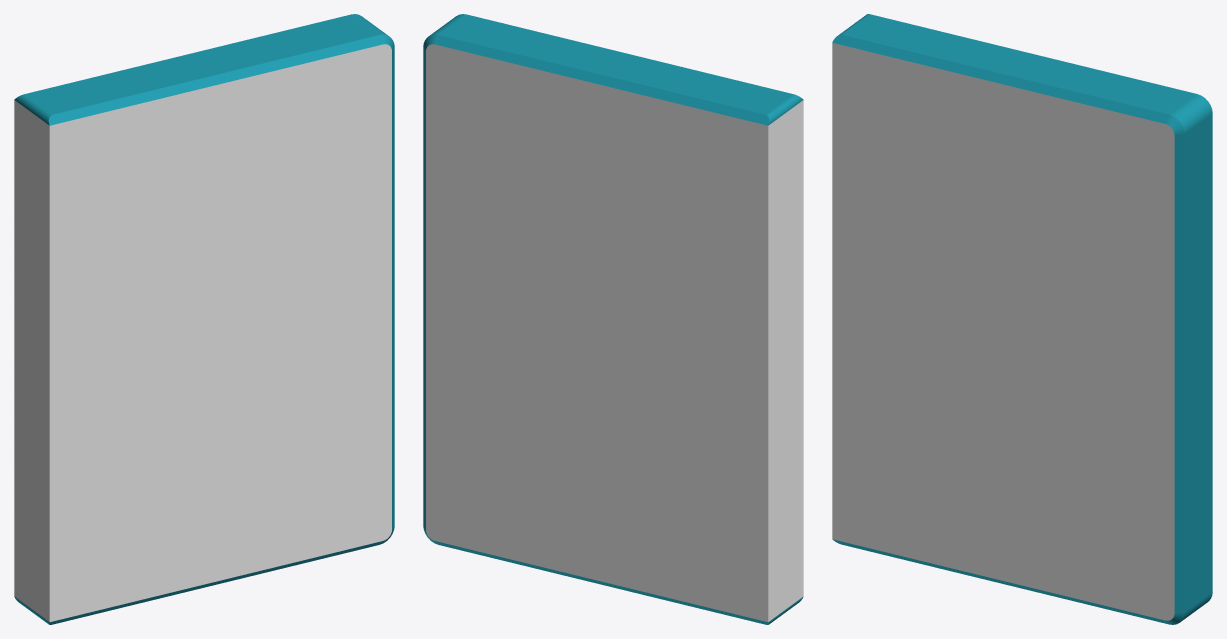
Rendered from clamshell_teal.glb.
3 renders of one model, left to right at view 1: azimuth 30°, elevation 25°; view 2: azimuth 150°, elevation 25°; view 3: azimuth 330°, elevation 25°, orthographic.
Visible parts, largest first — view 1: box; view 2: box; view 3: box.
Boxes of the visible parts, <box> form: box: <box>14,14,394,624</box>; box: <box>423,14,803,624</box>; box: <box>832,14,1212,624</box>.
Size of the model in its own units: 0.7158 by 1 by 0.1263.
